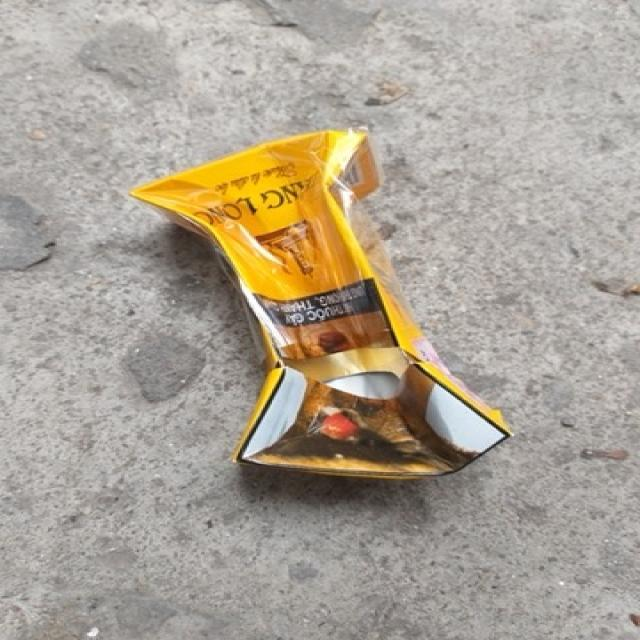PaperCardboard: (140, 128, 513, 490)
